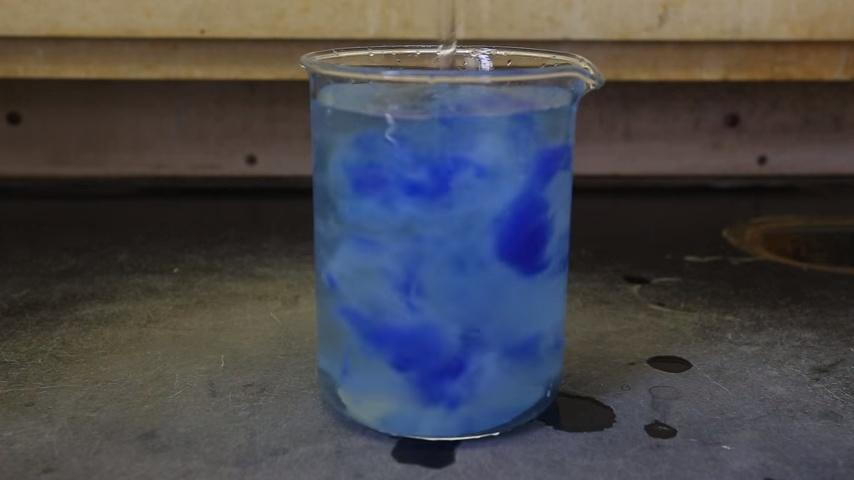Beaker: (296, 38, 602, 453)
